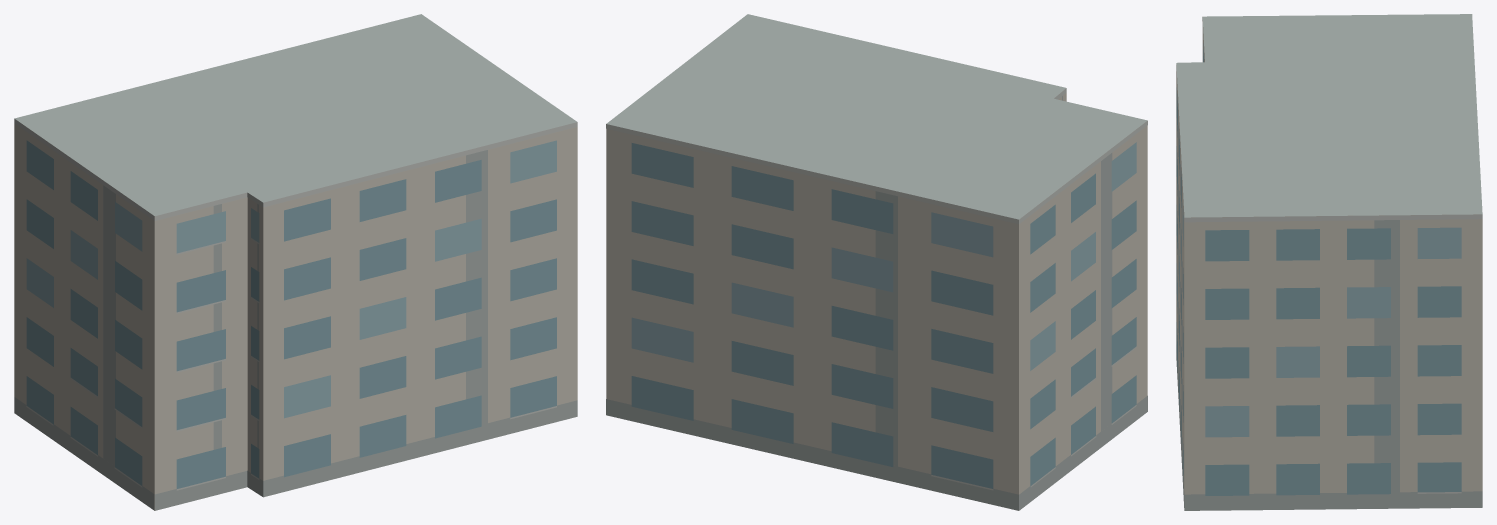
Rendered from survey-upis-32719961.glb.
The picture shows the model from 3 angles, left to right: view 1: azimuth 30°, elevation 25°; view 2: azimuth 150°, elevation 25°; view 3: azimuth 270°, elevation 25°; orthographic projection.
Parts seen in each view (by area): view 1: survey-upis-32719961.tmp; view 2: survey-upis-32719961.tmp; view 3: survey-upis-32719961.tmp.
Part boxes in pixels (<box>): survey-upis-32719961.tmp: <box>14,14,577,510</box>; survey-upis-32719961.tmp: <box>606,14,1147,510</box>; survey-upis-32719961.tmp: <box>1176,14,1482,510</box>.
Bounding box in the file's own units: 22.46 × 15.09 × 14.29.
